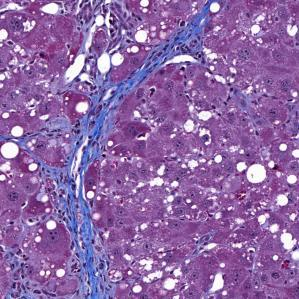fibrosis: (44, 165, 116, 299), (74, 68, 122, 152), (142, 23, 209, 73)
